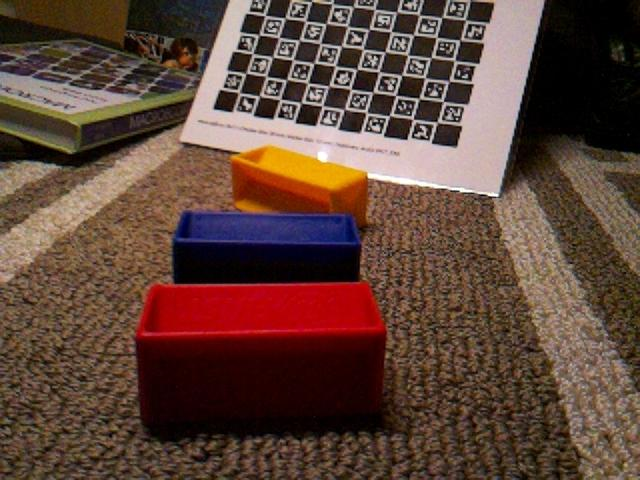blue: (171, 208, 363, 284)
red: (134, 280, 388, 434)
yellow: (229, 143, 369, 229)
